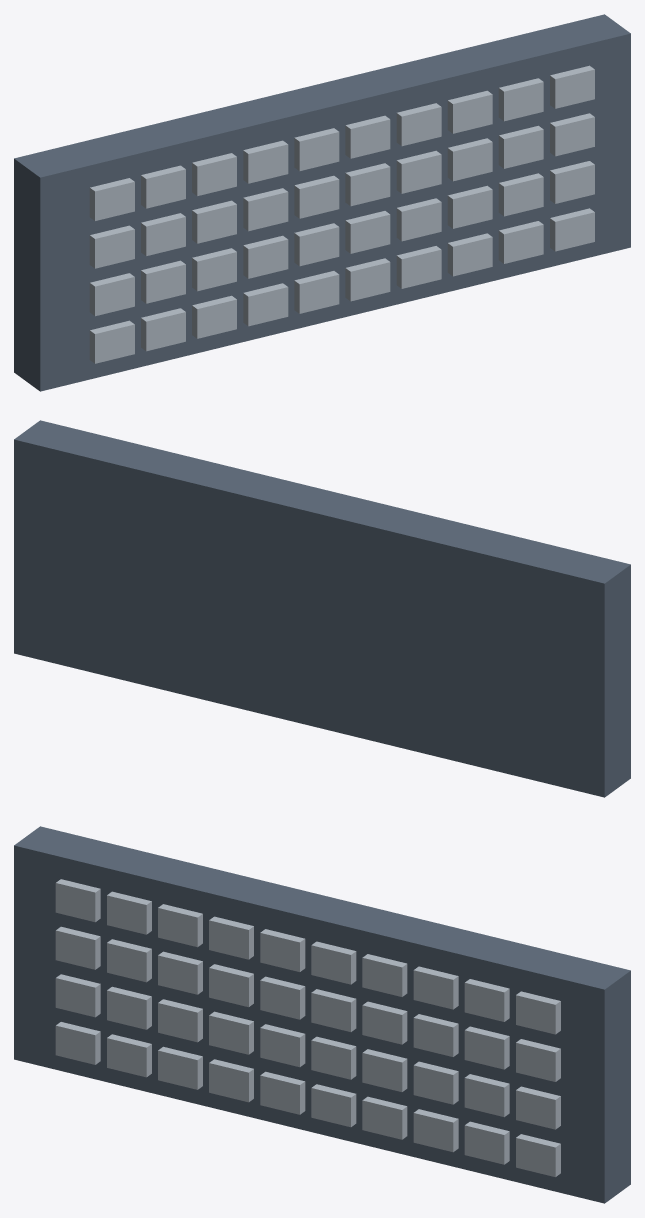
File: keyboard.glb
3 views of the same model, one above another, from view 1: azimuth 30°, elevation 25°; view 2: azimuth 150°, elevation 25°; view 3: azimuth 330°, elevation 25° (orthographic).
Parts seen in each view (by area): view 1: body_0, key_1, key_6, key_14, key_15, key_17, key_18, key_24, key_26, key_27, key_35, key_36 (+29 smaller); view 2: body_0; view 3: body_0, key_5, key_8, key_11, key_15, key_16, key_18, key_19, key_25, key_27, key_29, key_36 (+29 smaller).
Boxes of the visible parts, x1,y1,x2,y2 form: body_0: [14, 14, 630, 391]; key_1: [89, 320, 134, 363]; key_6: [345, 258, 390, 301]; key_14: [243, 235, 288, 278]; key_15: [294, 223, 339, 266]; key_17: [396, 198, 441, 241]; key_18: [447, 185, 492, 228]; key_24: [243, 188, 288, 231]; key_26: [345, 163, 390, 206]; key_27: [396, 150, 441, 193]; key_35: [294, 128, 339, 171]; key_36: [345, 115, 390, 158]; body_0: [14, 420, 630, 797]; body_0: [14, 826, 630, 1203]; key_5: [260, 1071, 305, 1114]; key_8: [413, 1109, 458, 1152]; key_11: [55, 974, 100, 1017]; key_15: [260, 1024, 305, 1067]; key_16: [311, 1036, 356, 1079]; key_18: [413, 1061, 458, 1104]; key_19: [464, 1074, 509, 1117]; key_25: [260, 976, 305, 1019]; key_27: [362, 1001, 407, 1044]; key_29: [464, 1026, 509, 1069]; key_36: [311, 941, 356, 984].
Size of the model in its own units: 0.52 by 0.18 by 0.05.
